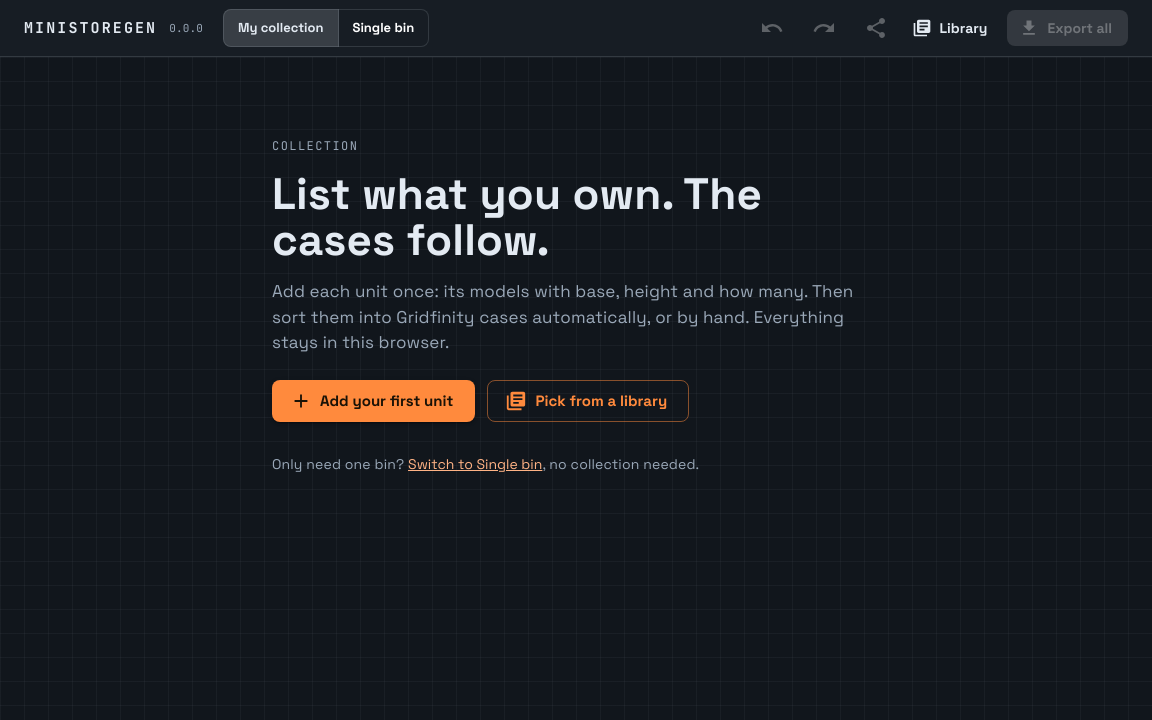
Test case: deleting a case puts its minis back and can be undone
This screenshot has width=1152, height=720.
Step 1. Click the button "Add your first unit" → (374, 401), box 272,380 -> 475,422
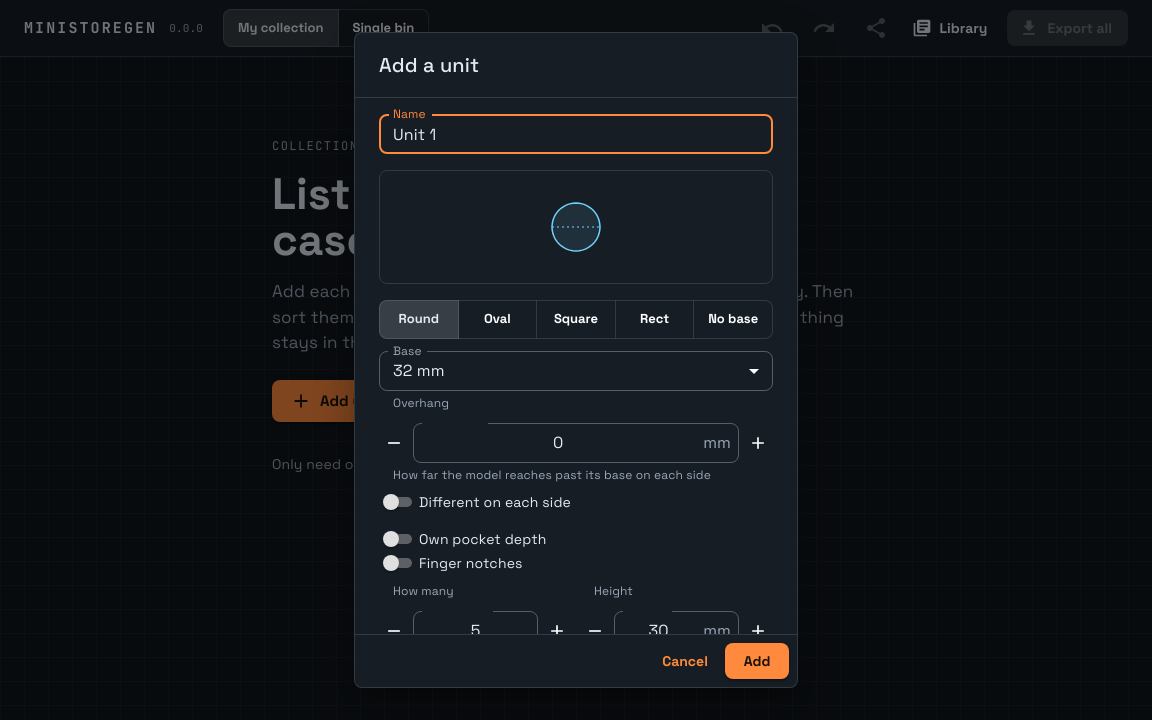
Step 2. Replace the text in the field labelled "Name" with "Intercessors" → (576, 134), box 379,114 -> 773,154
Step 3. Replace the text in the number field labelled "How many" with "3" → (476, 631), box 413,611 -> 538,651
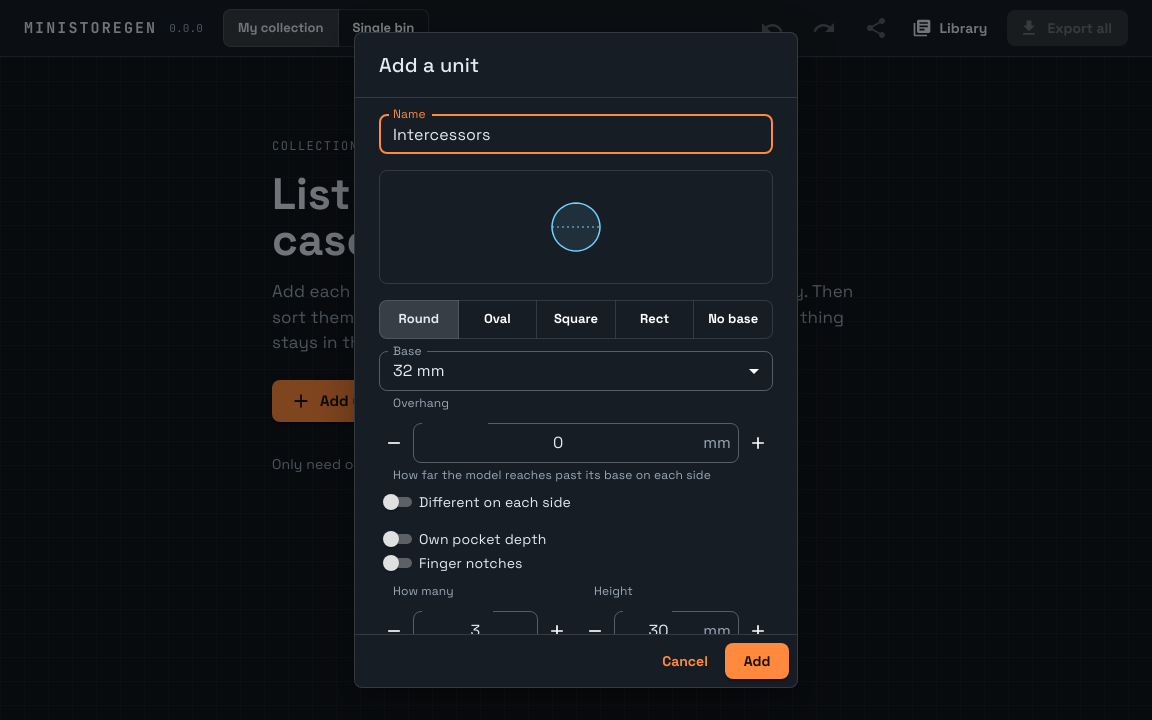
Step 4. Click the button "Add" → (757, 661), box 725,642 -> 789,679
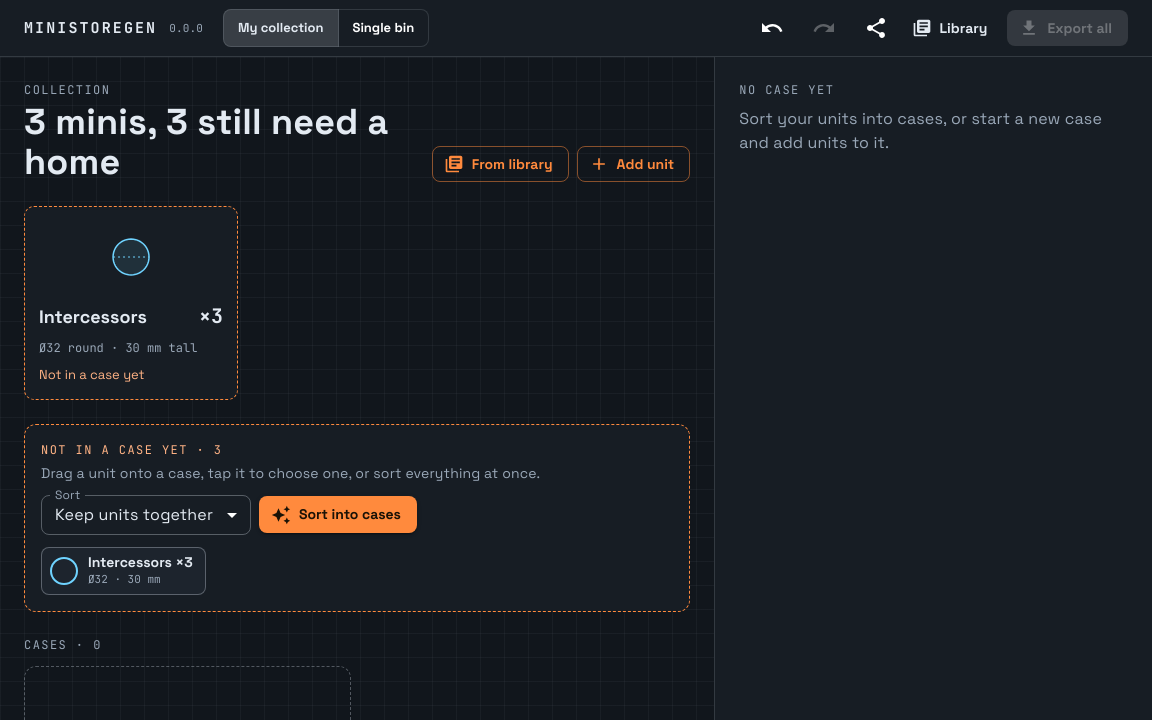
Step 5. Click the button "Sort into cases" → (338, 515), box 259,496 -> 417,533
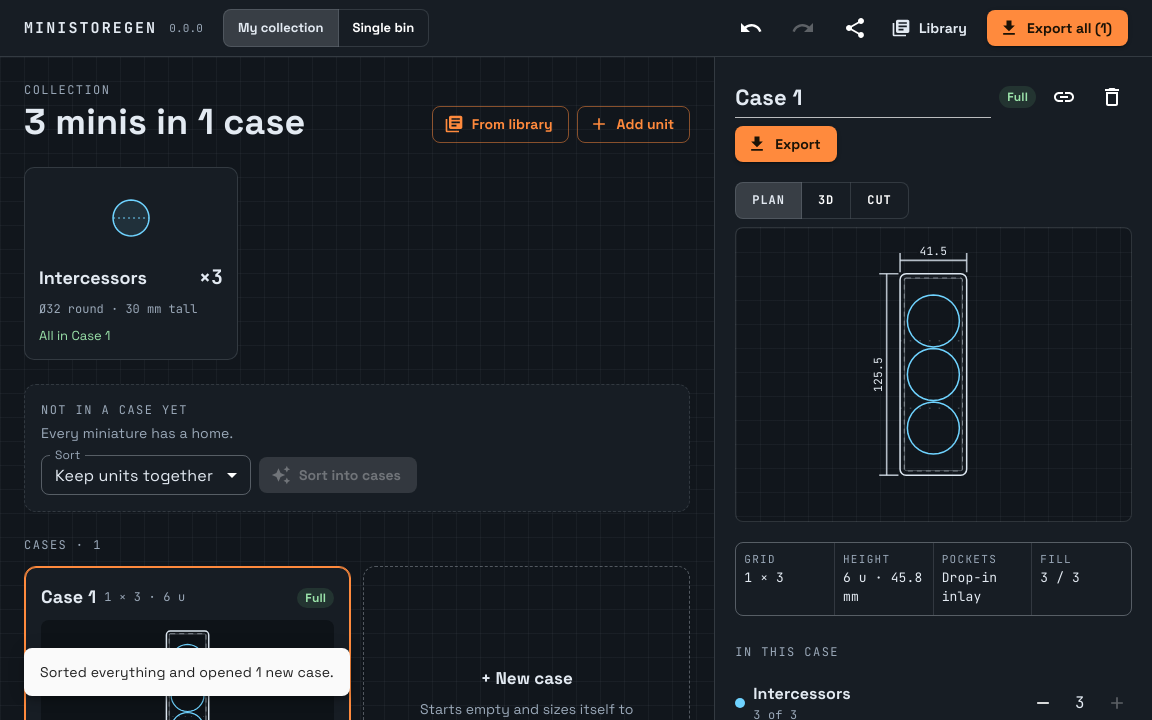
Step 6. Click the button named "Delete Case 1" → (1112, 97), box 1092,77 -> 1132,117
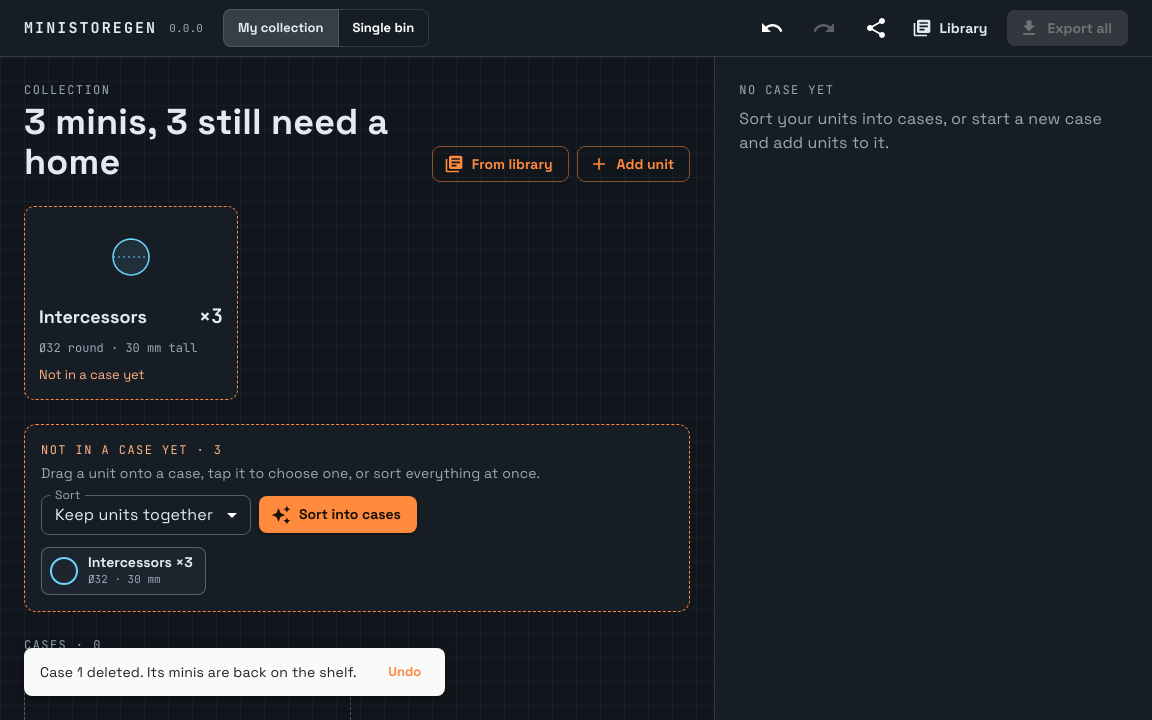
Result: the heading with test id "collection-summary" reads "3 minis, 3 still need a home" at 24,99 -> 388,185
Step 7. Click the button "Undo" → (405, 672), box 373,654 -> 437,690
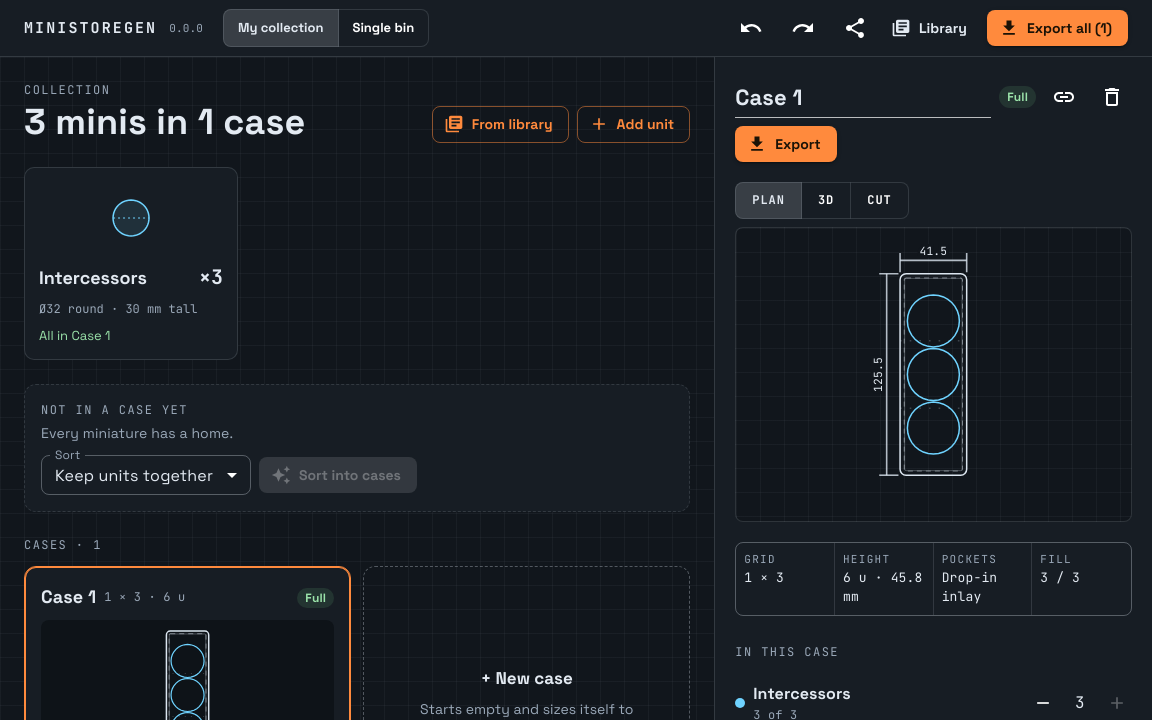
Result: the heading with test id "collection-summary" reads "3 minis in 1 case" at 24,99 -> 305,145
